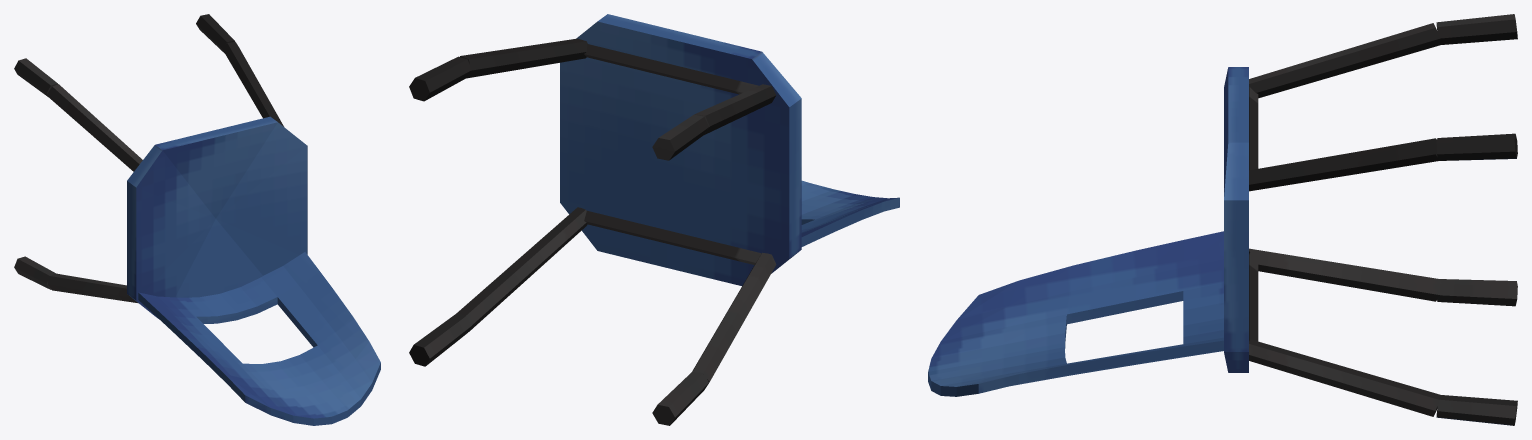
File: pz_chair_seating_indoor_02_blue_plastic_fidelity_r1.obj
3 views of the same model, side by side, from view 1: azimuth 30°, elevation 25°; view 2: azimuth 150°, elevation 25°; view 3: azimuth 270°, elevation 25° (orthographic). The views are drawn at different scales.
Visible parts, largest first — view 1: seat, back, frame; view 2: seat, frame, back; view 3: frame, back, seat.
Boxes of the visible parts, left/top/right/bottom form: seat: left=127, top=116, right=307, bottom=318; back: left=138, top=252, right=380, bottom=425; frame: left=14, top=14, right=283, bottom=303; seat: left=560, top=14, right=801, bottom=285; frame: left=409, top=38, right=776, bottom=425; back: left=801, top=180, right=899, bottom=246; frame: left=1249, top=14, right=1517, bottom=425; back: left=928, top=231, right=1223, bottom=396; seat: left=1224, top=67, right=1248, bottom=372.
Bounding box in the file's own units: 0.4251 × 0.4642 × 0.8126.
1 material, 1 textured.
